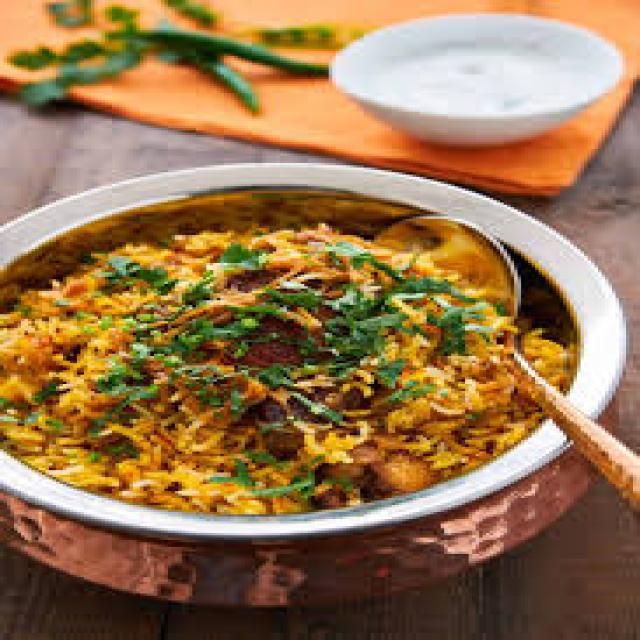Wet Waste: (6, 202, 576, 547)
